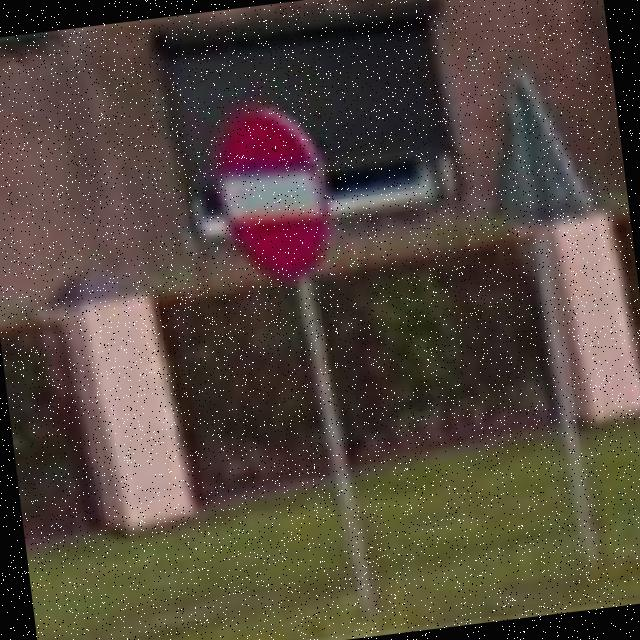Zakaz wjazdu: (208, 95, 338, 288)
